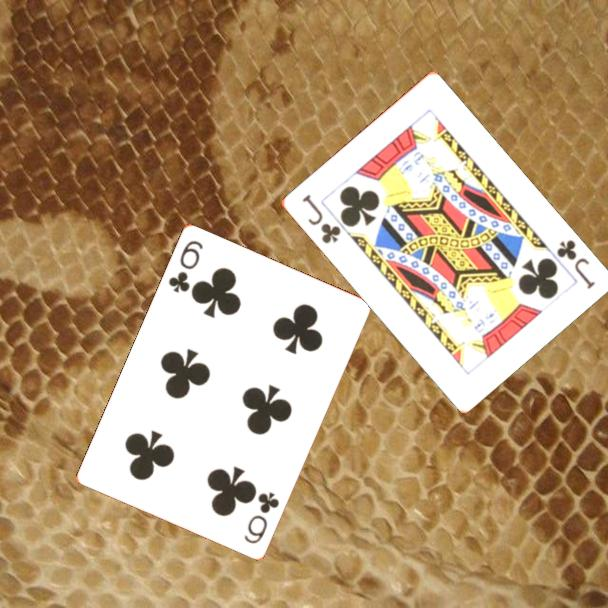c06: (241, 488, 282, 547), (165, 237, 206, 296)
c11: (298, 190, 343, 247), (553, 236, 598, 292)
